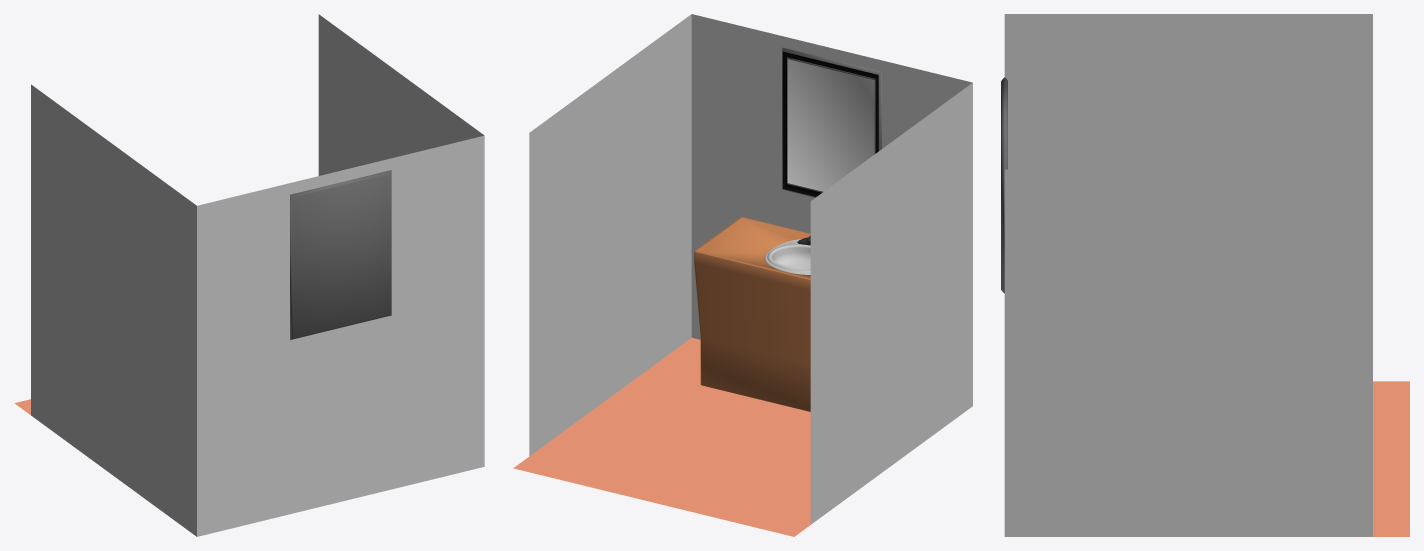
The model's file is flipperEnv.obj.
3 renders of one model, left to right at view 1: azimuth 30°, elevation 25°; view 2: azimuth 150°, elevation 25°; view 3: azimuth 270°, elevation 25°, orthographic. The views are drawn at different scales.
Parts seen in each view (by area): view 1: wall_front_Plane.001, wall_right_Plane, mirror_Cube, wall_left_Plane.002; view 2: wall_right_Plane, wall_left_Plane.002, floor_Plane.003, wall_front_Plane.001, table_Cube.003, mirror_Cube, sink_Sphere; view 3: wall_left_Plane.002, wall_right_Plane, floor_Plane.003, mirror_Cube.
Part boxes in pixels (x1=…): wall_front_Plane.001: x1=197, y1=135, x2=484, y2=536; wall_right_Plane: x1=31, y1=84, x2=196, y2=536; mirror_Cube: x1=290, y1=170, x2=391, y2=340; wall_left_Plane.002: x1=318, y1=14, x2=484, y2=175; wall_right_Plane: x1=810, y1=83, x2=972, y2=524; wall_left_Plane.002: x1=529, y1=14, x2=691, y2=455; floor_Plane.003: x1=513, y1=337, x2=810, y2=536; wall_front_Plane.001: x1=691, y1=14, x2=972, y2=339; table_Cube.003: x1=694, y1=217, x2=810, y2=411; mirror_Cube: x1=782, y1=47, x2=881, y2=197; sink_Sphere: x1=764, y1=239, x2=810, y2=274; wall_left_Plane.002: x1=1004, y1=169, x2=1372, y2=536; wall_right_Plane: x1=1004, y1=14, x2=1372, y2=169; floor_Plane.003: x1=1373, y1=381, x2=1409, y2=536; mirror_Cube: x1=1001, y1=77, x2=1007, y2=293.
Size of the model in its own units: 10.53 by 11.61 by 11.68.
